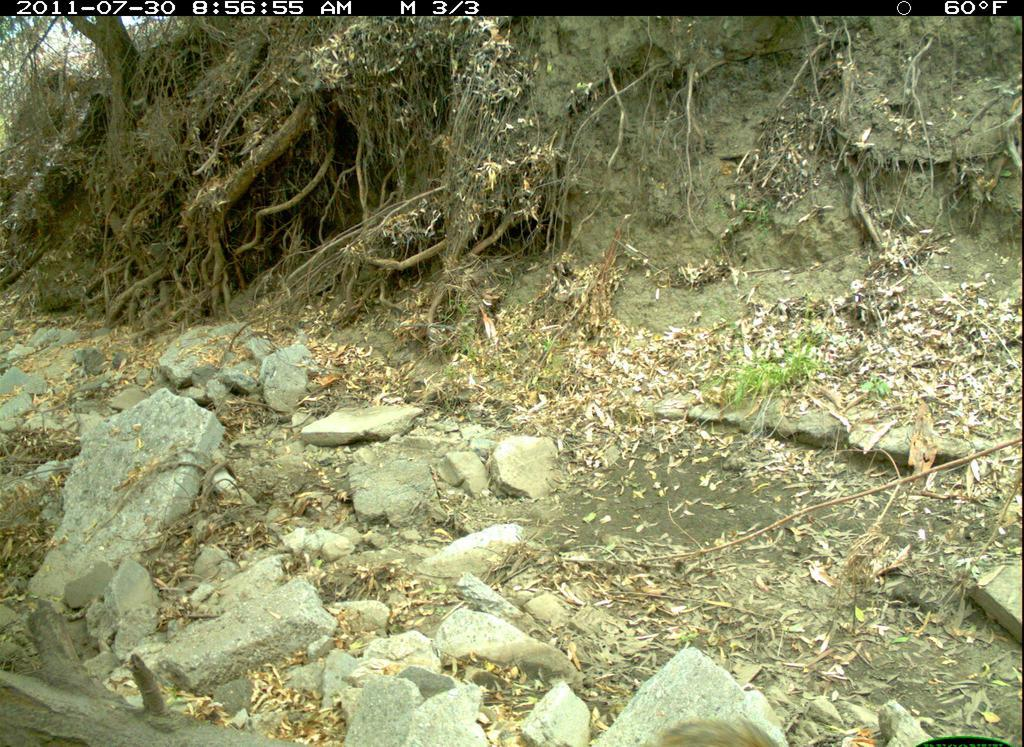squirrel: (658, 707, 786, 747)
